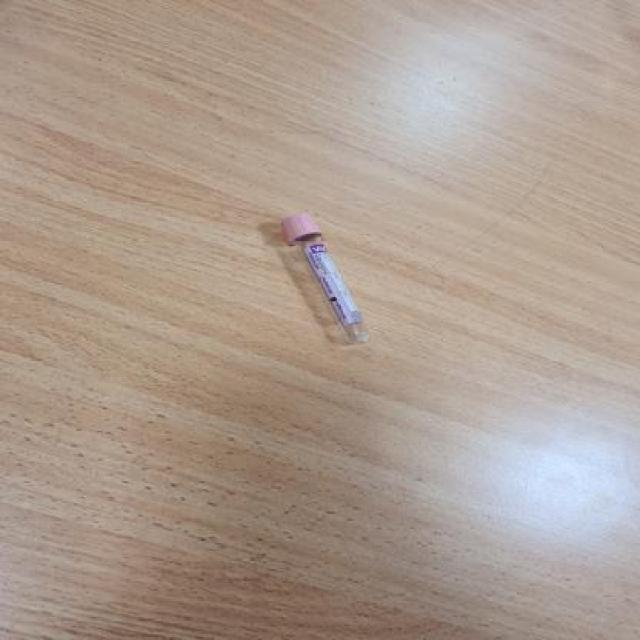Experimental-tube: (282, 211, 371, 346)
